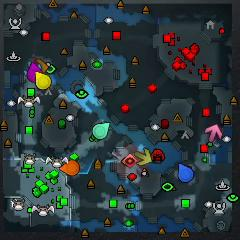p1: (178, 163, 194, 183)
p2: (93, 122, 110, 140)
p3: (28, 60, 43, 82)
p4: (36, 72, 51, 90)
p5: (59, 160, 80, 176)
x1: (206, 124, 222, 143)
x2: (135, 148, 153, 166)
x3: (25, 61, 41, 76)
x5: (36, 59, 48, 73)
